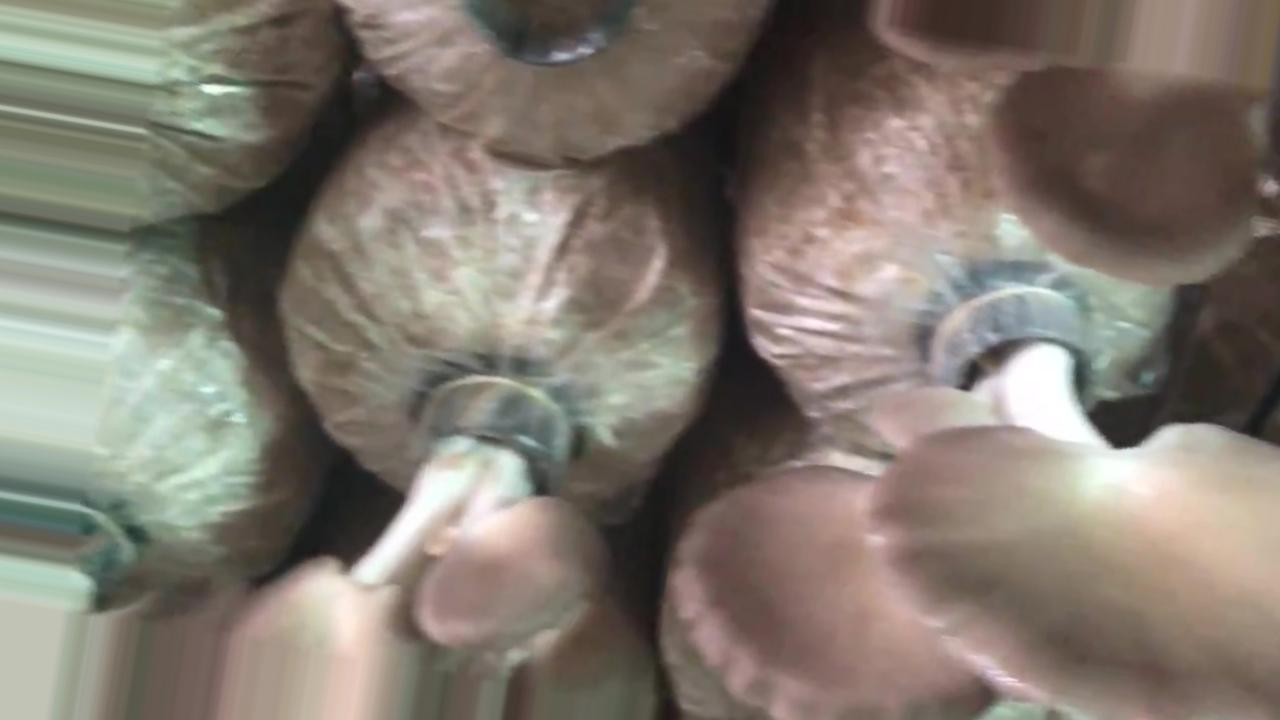nam: (866, 287, 1279, 720), (216, 359, 656, 720), (864, 5, 1280, 284), (657, 463, 996, 720)
